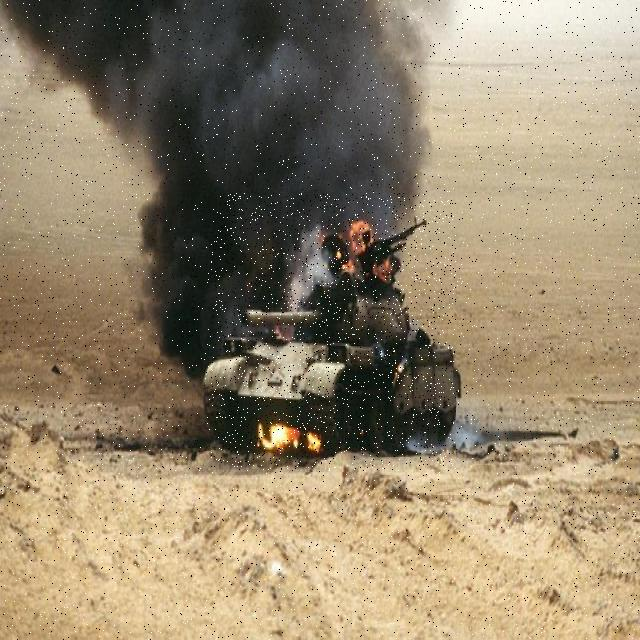MIL_MBT: (211, 194, 455, 471)
